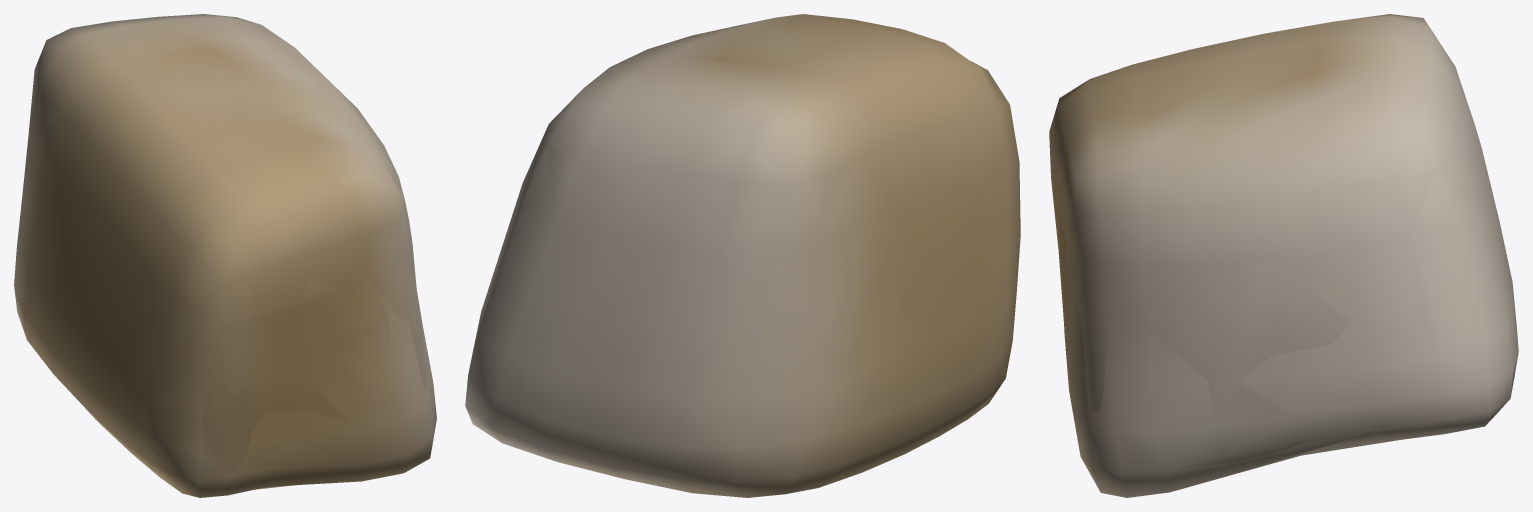
File: L carpale secundum.fbx
3 renders of one model, left to right at view 1: azimuth 30°, elevation 25°; view 2: azimuth 150°, elevation 25°; view 3: azimuth 270°, elevation 25°, orthographic. The views are drawn at different scales.
Visible parts, largest first — view 1: L carpale secundum, L carpale secundum low; view 2: L carpale secundum, L carpale secundum low; view 3: L carpale secundum, L carpale secundum low.
Boxes of the visible parts, box(x1,y1,x2,y2) form: L carpale secundum: box(14, 14, 436, 497); L carpale secundum low: box(16, 17, 433, 496); L carpale secundum: box(465, 14, 1020, 497); L carpale secundum low: box(468, 18, 1009, 492); L carpale secundum: box(1049, 14, 1518, 497); L carpale secundum low: box(1051, 101, 1511, 492).
Size of the model in its own units: 0.8828 by 1.02 by 1.11.
